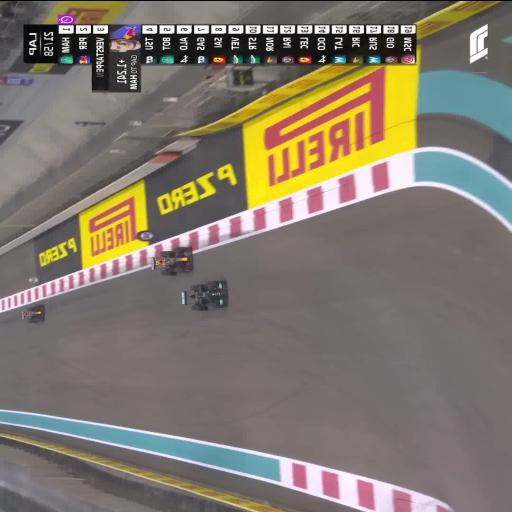f1_car: (181, 279, 227, 310), (151, 246, 192, 274), (21, 304, 43, 322)
